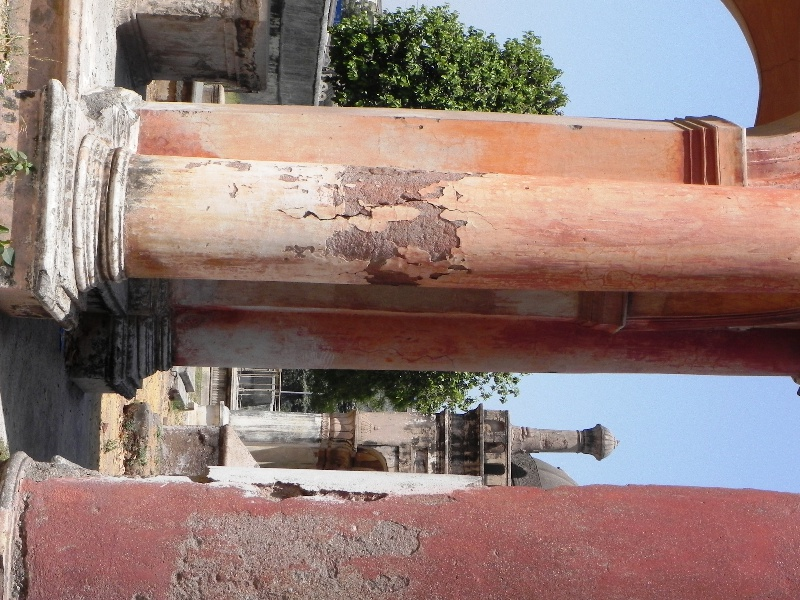Crack: (276, 203, 373, 221)
Spalling: (166, 509, 426, 600), (318, 222, 474, 286), (324, 164, 497, 198)
